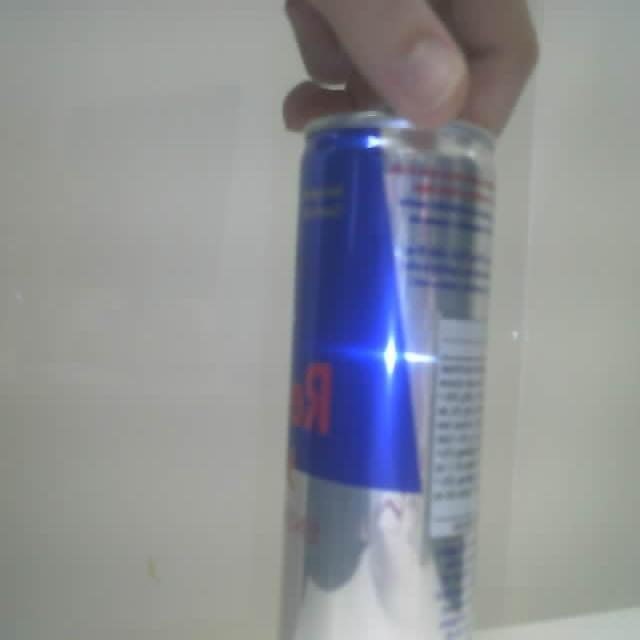redbull can: (280, 112, 494, 639)
